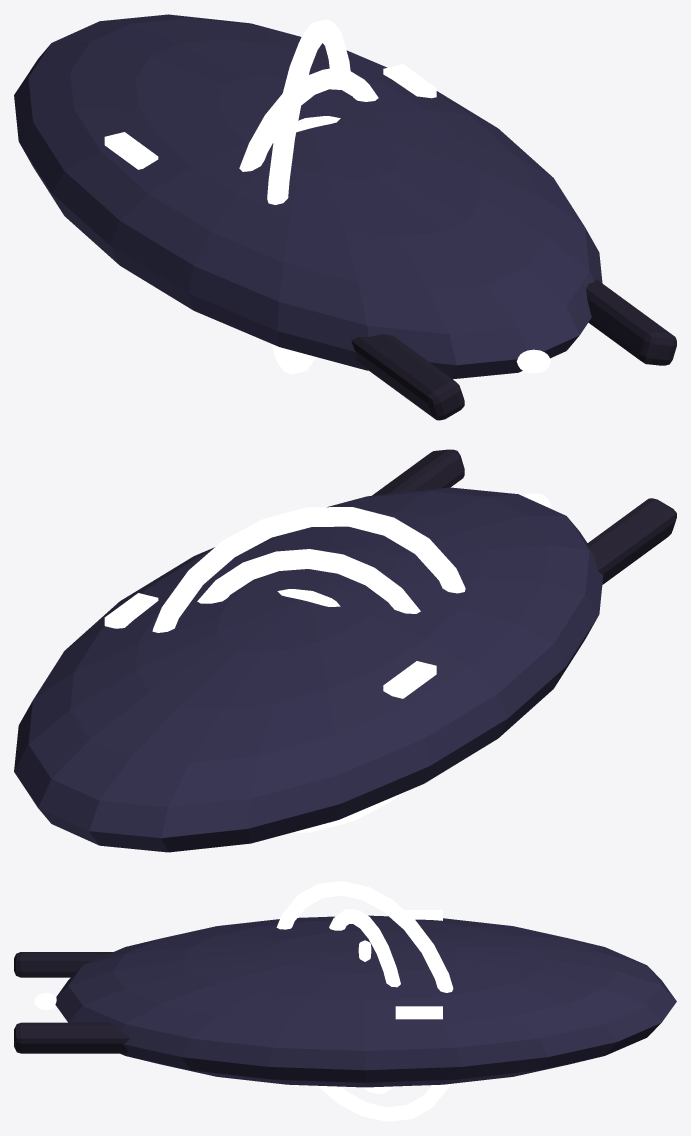
3 renders of one model, top to bottom at view 1: azimuth 30°, elevation 25°; view 2: azimuth 150°, elevation 25°; view 3: azimuth 270°, elevation 25°, orthographic. The views are drawn at different scales.
Parts seen in each view (by area): view 1: RIMWARD_HULL, RIMWARD_EMISSIVE, RIMWARD_ENGINE_GLOW; view 2: RIMWARD_HULL, RIMWARD_EMISSIVE; view 3: RIMWARD_HULL, RIMWARD_EMISSIVE.
Boxes of the visible parts, x1,y1,x2,y2 form: RIMWARD_HULL: (14,14,676,420); RIMWARD_EMISSIVE: (104,19,436,374); RIMWARD_ENGINE_GLOW: (516,349,550,373); RIMWARD_HULL: (14,449,676,852); RIMWARD_EMISSIVE: (104,507,465,832); RIMWARD_HULL: (14,915,676,1087); RIMWARD_EMISSIVE: (276,881,453,1121).
Bounding box in the file's own units: 3.46 × 2.69 × 7.04.
